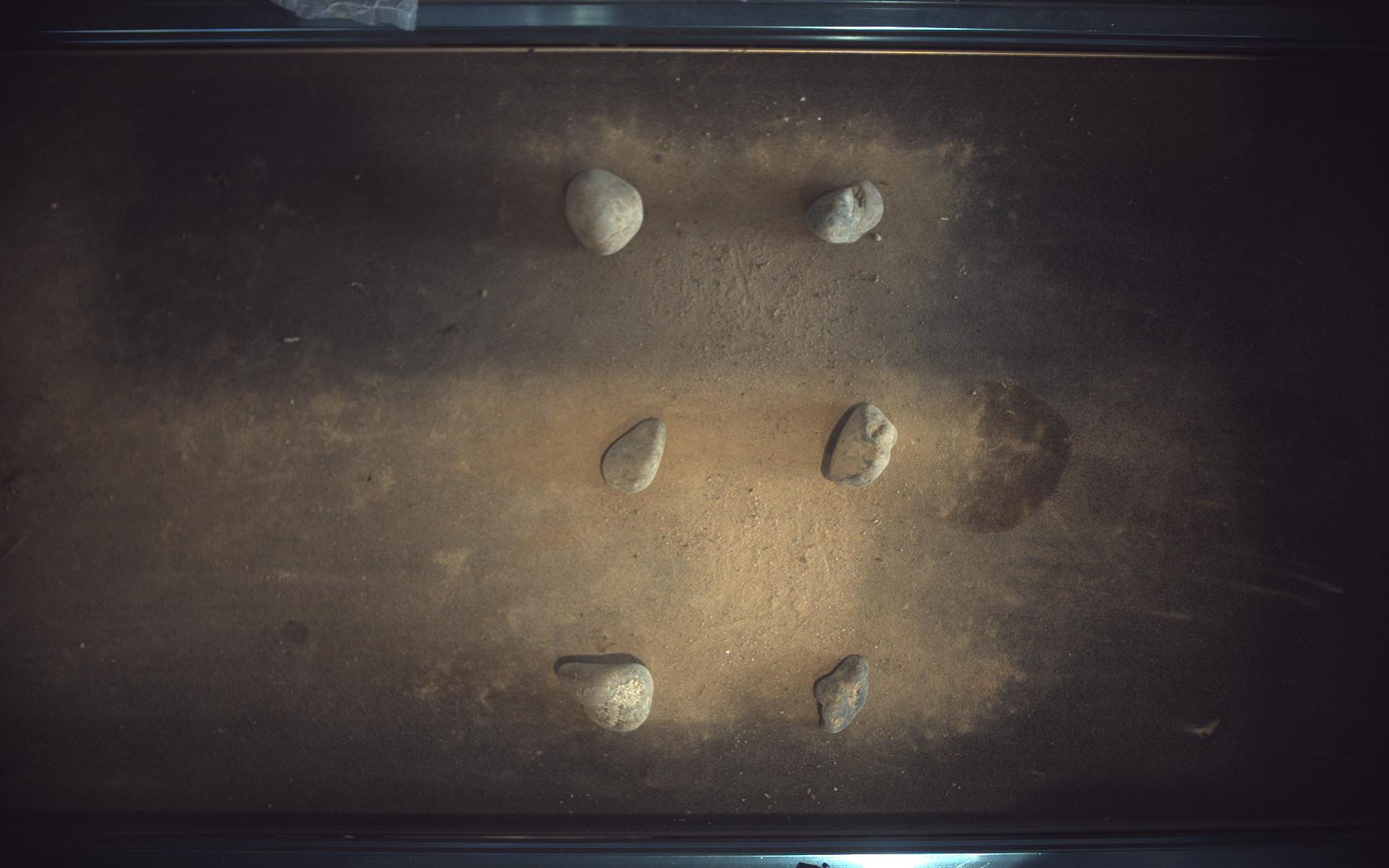stone: (566, 168, 645, 255), (557, 663, 654, 733), (829, 403, 899, 488), (602, 419, 668, 494), (808, 180, 885, 243), (815, 656, 870, 735)
